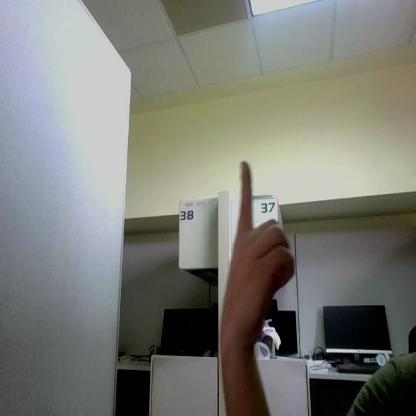D: (221, 163, 294, 337)
